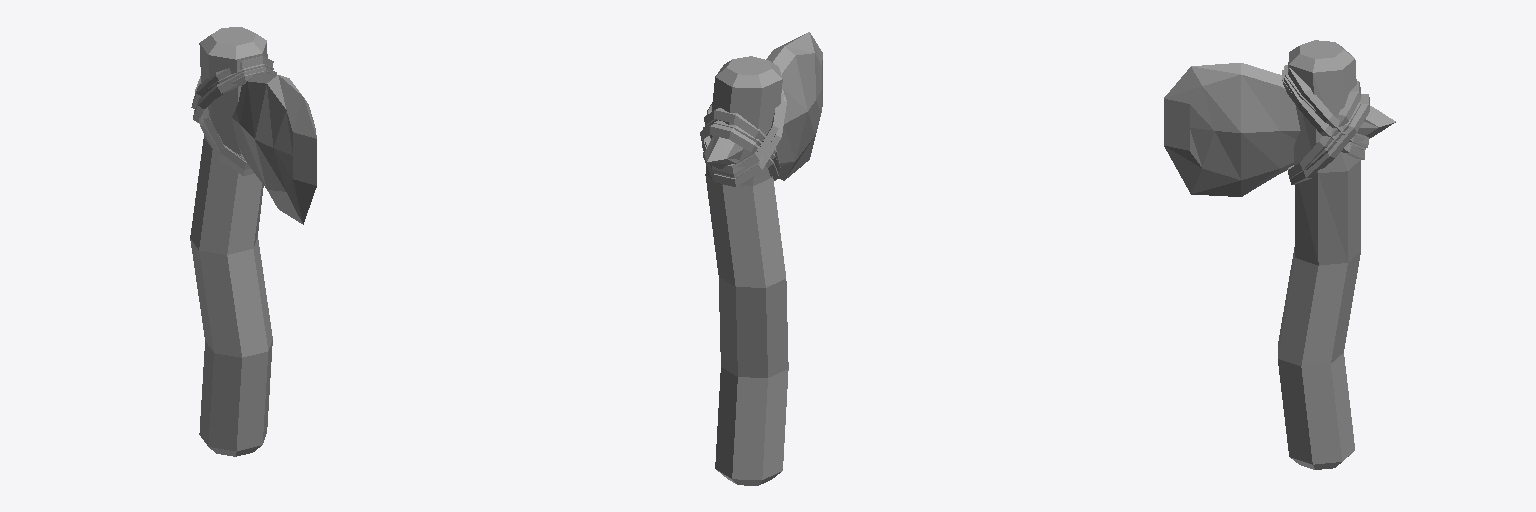
Rendered from Stone_Axe.obj.
3 views of the same model, side by side, from view 1: azimuth 30°, elevation 25°; view 2: azimuth 150°, elevation 25°; view 3: azimuth 270°, elevation 25° (orthographic).
Visible parts, largest first — view 1: Cylinder, Cube, Torus.006_Torus.008; view 2: Cylinder, Cube, Torus.006_Torus.008; view 3: Cylinder, Cube, Torus.006_Torus.008.
Boxes of the visible parts, x1,y1,x2,y2 form: Cylinder: [190, 27, 272, 456]; Cube: [232, 73, 316, 224]; Torus.006_Torus.008: [191, 56, 276, 175]; Cylinder: [705, 56, 788, 485]; Cube: [704, 32, 822, 180]; Torus.006_Torus.008: [700, 89, 786, 186]; Cylinder: [1278, 40, 1360, 469]; Cube: [1164, 63, 1395, 196]; Torus.006_Torus.008: [1282, 62, 1369, 184].
Bounding box in the file's own units: 0.7326 × 3.81 × 1.96.